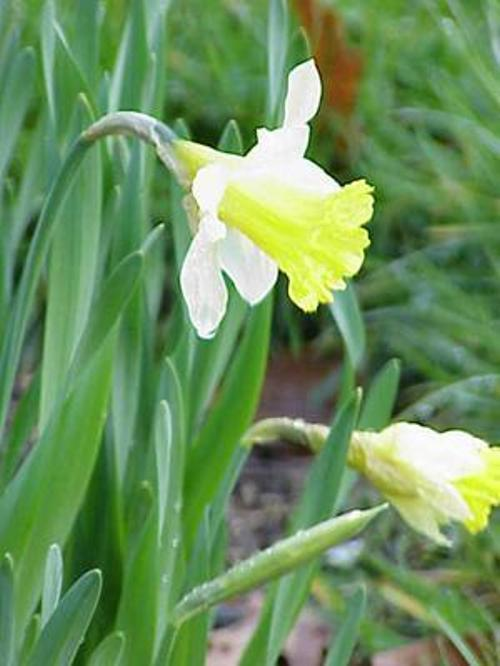flower1: (143, 57, 377, 340), (344, 401, 500, 549)
